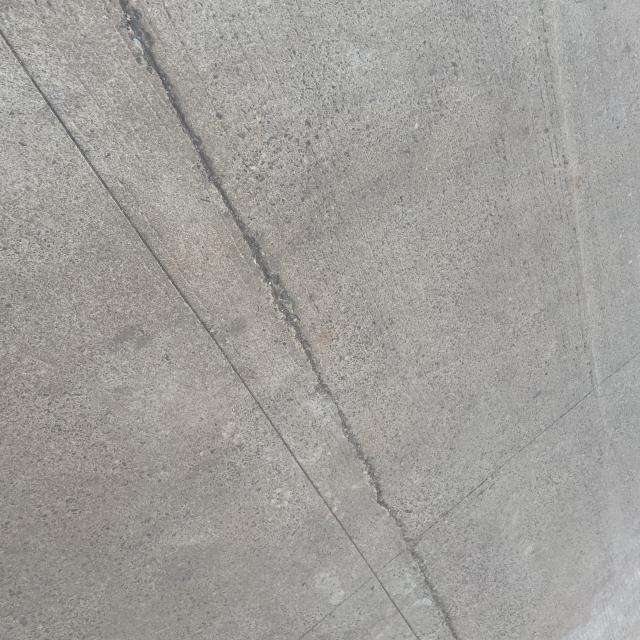D43: (23, 38, 516, 627)
